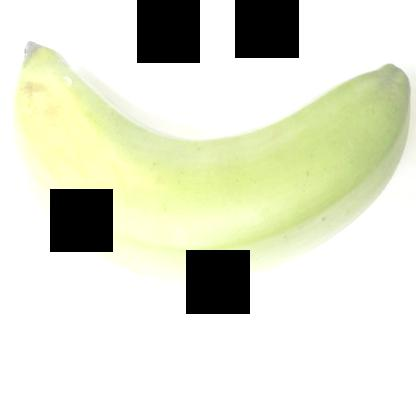freshunripe: (4, 17, 415, 305)
